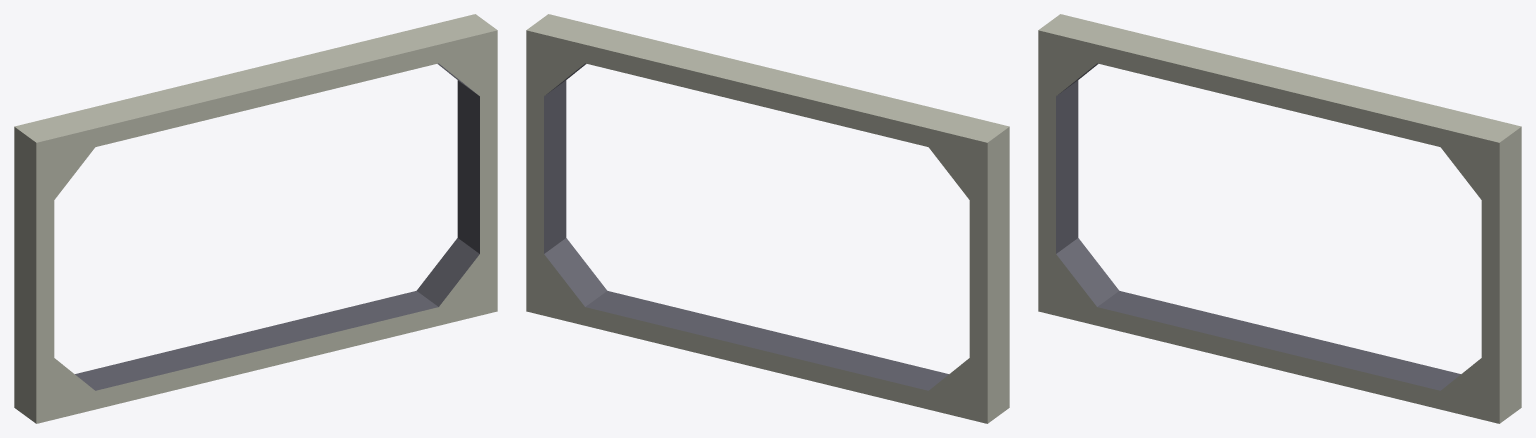
File: doorosnova.fbx
3 renders of one model, left to right at view 1: azimuth 30°, elevation 25°; view 2: azimuth 150°, elevation 25°; view 3: azimuth 330°, elevation 25°, orthographic.
Visible parts, largest first — view 1: Cube.101; view 2: Cube.101; view 3: Cube.101.
Boxes of the visible parts, x1=… form: Cube.101: x1=14, y1=14, x2=497, y2=423; Cube.101: x1=526, y1=14, x2=1009, y2=423; Cube.101: x1=1038, y1=14, x2=1521, y2=423.
Bounding box in the file's own units: 640 × 372 × 53.46.
